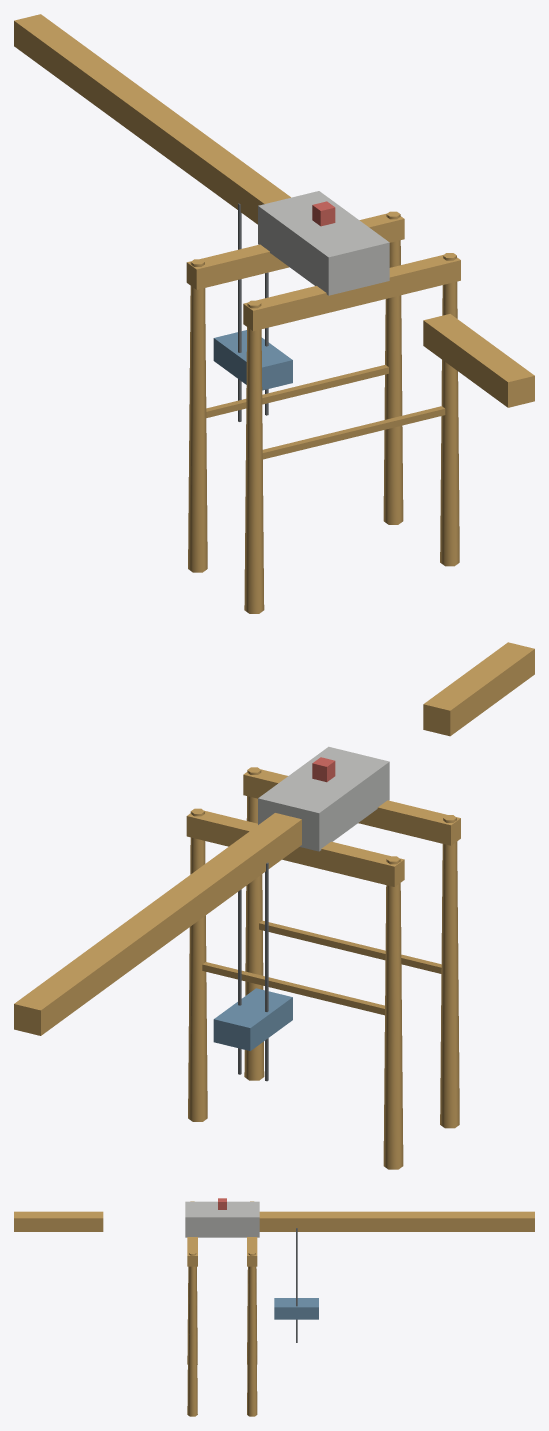
3 renders of one model, top to bottom at view 1: azimuth 30°, elevation 25°; view 2: azimuth 150°, elevation 25°; view 3: azimuth 270°, elevation 25°, orthographic. The views are drawn at different scales.
Visible parts, largest first — view 1: Visual; view 2: Visual; view 3: Visual.
Part boxes in pixels (x1,y1,x2,y2): Visual: [14, 14, 534, 613]; Visual: [14, 642, 534, 1169]; Visual: [14, 1198, 534, 1416].
Bounding box in the file's own units: 17.21 × 28.1 × 70.
